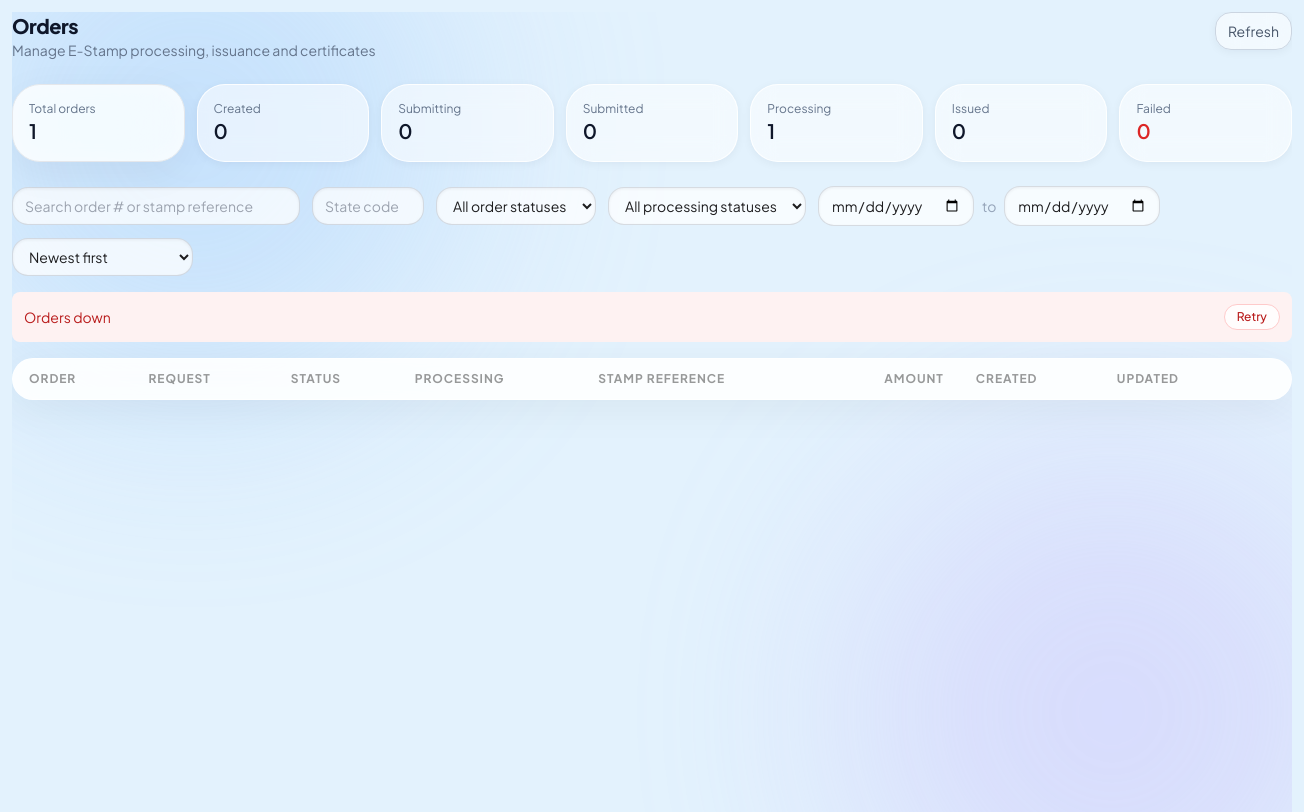
Test case: OrdersListPage › shows a list failure with Retry
Expected: the text "Orders down" is shown, [24,307,111,327]
Click the button "Retry".
click(1252, 317)  # box [1224,304,1280,330]
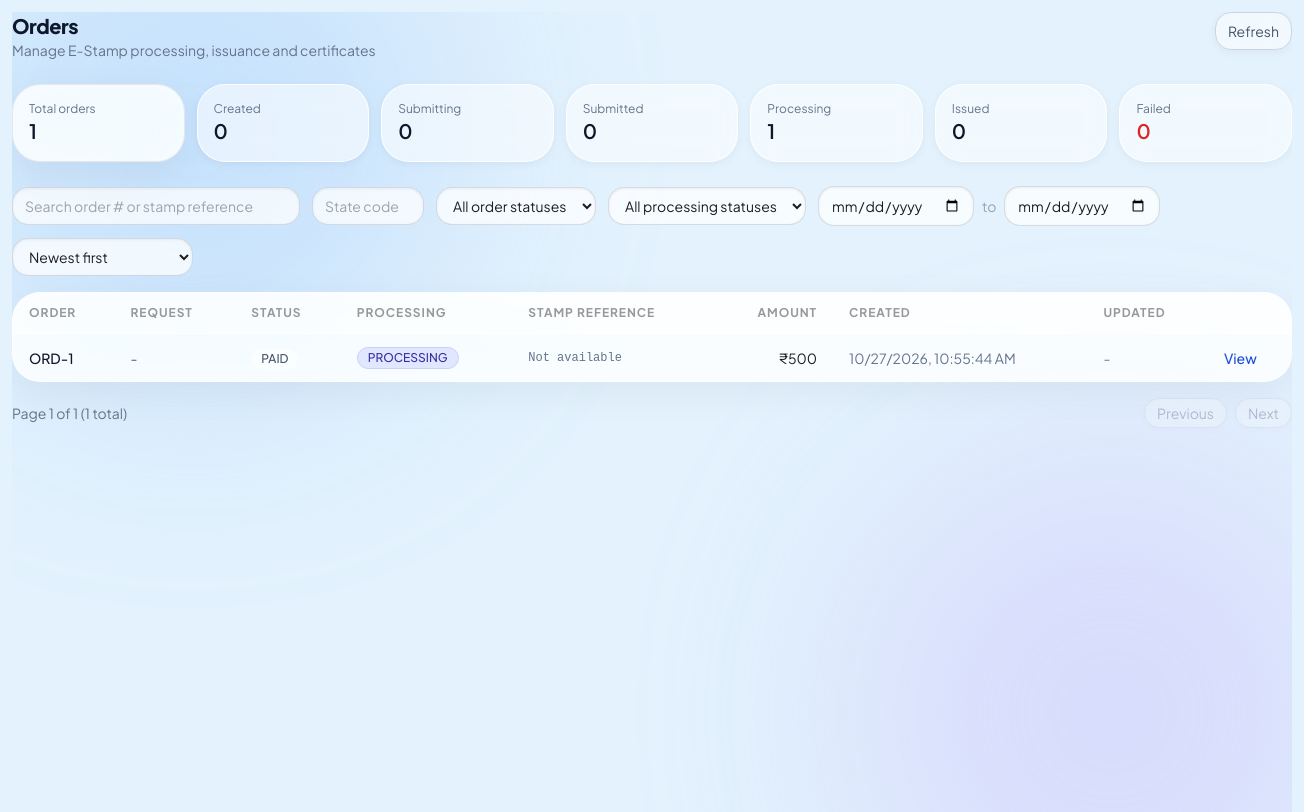
Now the text "ORD-1" is shown, box [13,334,114,381]
